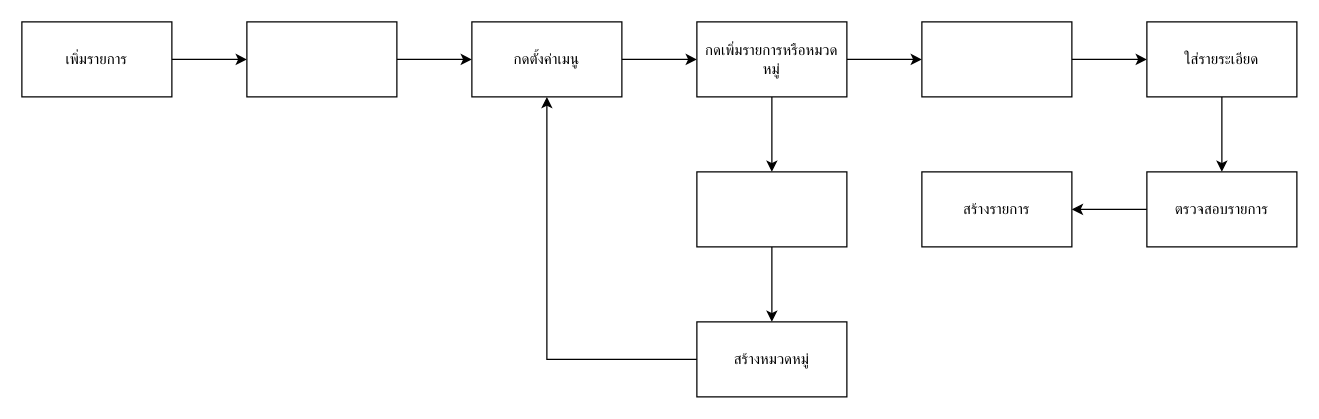
The diagram is 1319 pixels wide and 419 high, and some of its shapes have lost their labels. The centre of each missing label's shape, as x and y in pixels:
"กดเพิ่มรายการอาหาร" goes at (996,59).
"กดเมนู" goes at (321,59).
"เพิ่มหมวดหมู่" goes at (771,209).
